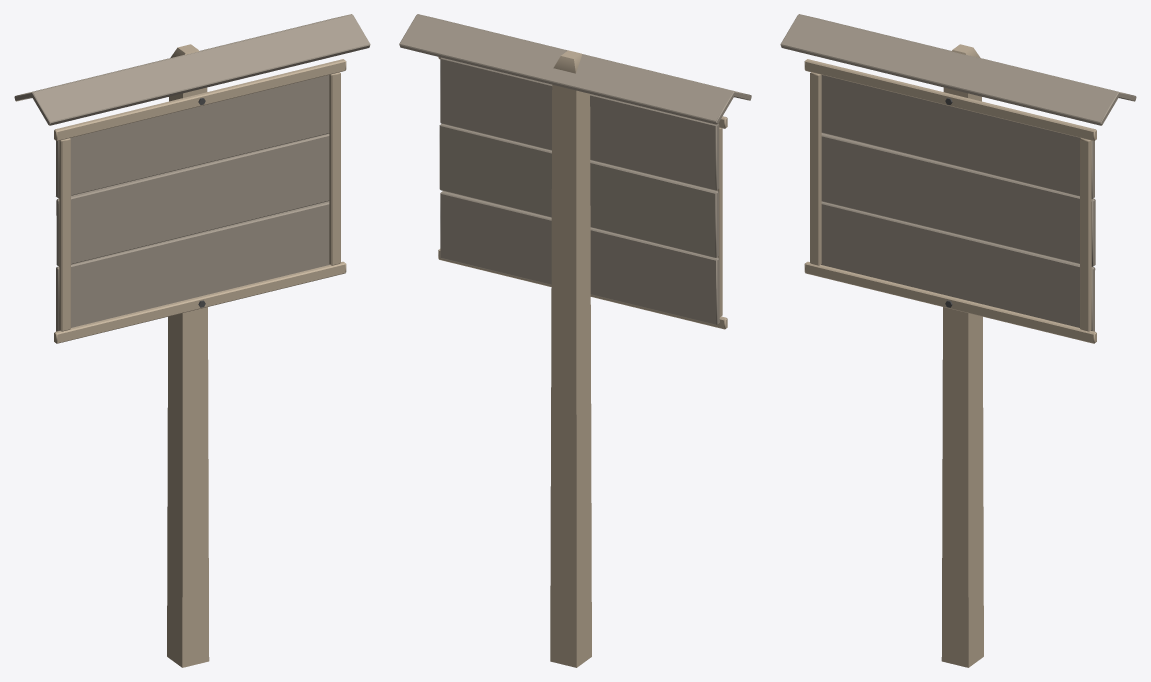
Rendered from signpost.glb.
3 renders of one model, left to right at view 1: azimuth 30°, elevation 25°; view 2: azimuth 150°, elevation 25°; view 3: azimuth 330°, elevation 25°, orthographic.
Parts seen in each view (by area): view 1: static; view 2: static; view 3: static.
Boxes of the visible parts, x1=… form: static: x1=14, y1=14, x2=370, y2=667; static: x1=399, y1=14, x2=751, y2=667; static: x1=780, y1=14, x2=1136, y2=667.
Size of the model in its own units: 1.26 by 2.29 by 0.245.
